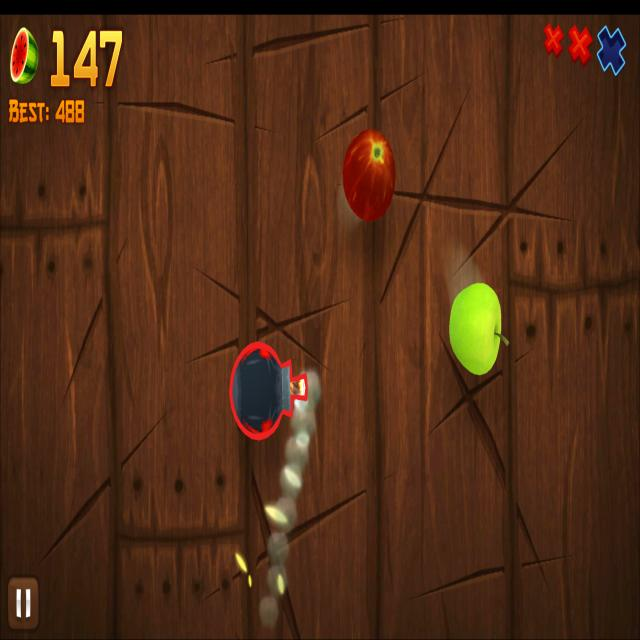bomb: (228, 341, 308, 441)
fruit: (342, 128, 397, 221), (449, 283, 503, 375)
